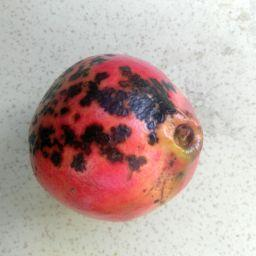pomegranate: (28, 53, 202, 222)
